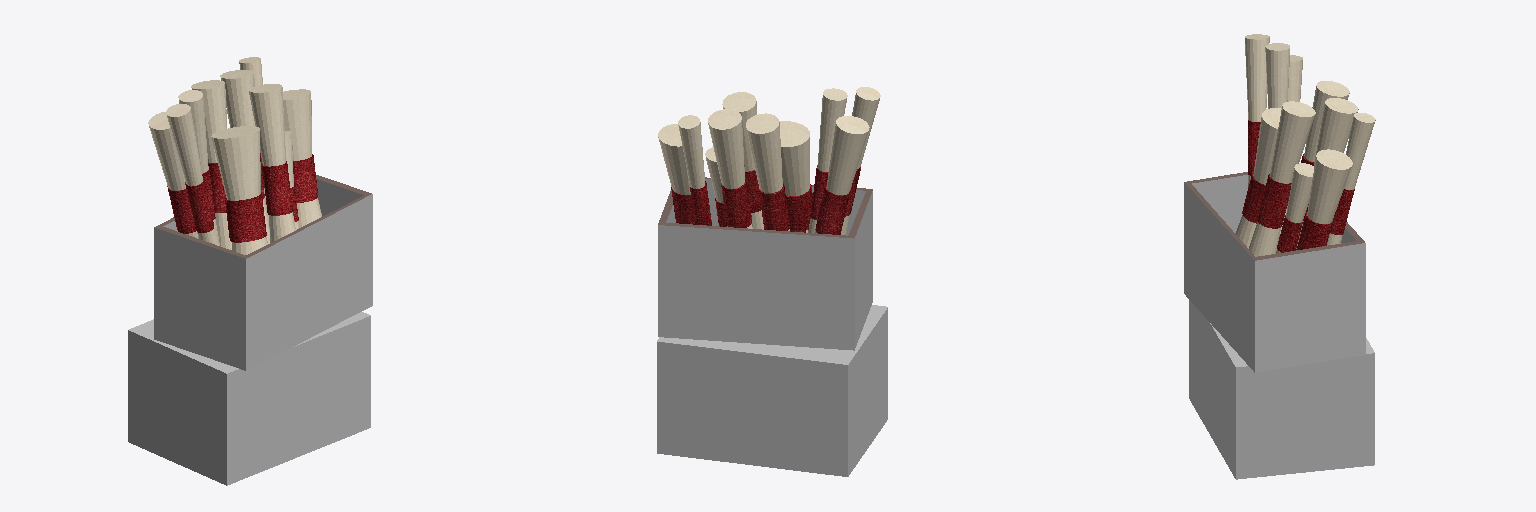
3 views of the same model, side by side, from view 1: azimuth 30°, elevation 25°; view 2: azimuth 150°, elevation 25°; view 3: azimuth 270°, elevation 25° (orthographic).
Parts seen in each view (by area): view 1: Cajas_Pergaminos:polySurface67; view 2: Cajas_Pergaminos:polySurface67; view 3: Cajas_Pergaminos:polySurface67.
Boxes of the visible parts, <box> form: Cajas_Pergaminos:polySurface67: <box>128,57,372,485</box>; Cajas_Pergaminos:polySurface67: <box>657,87,887,476</box>; Cajas_Pergaminos:polySurface67: <box>1184,34,1375,479</box>.
Size of the model in its own units: 7.02 by 11.48 by 5.58.
Materials: 5 (3 with a texture image).